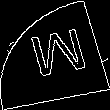M_S: (22, 25, 88, 85)
